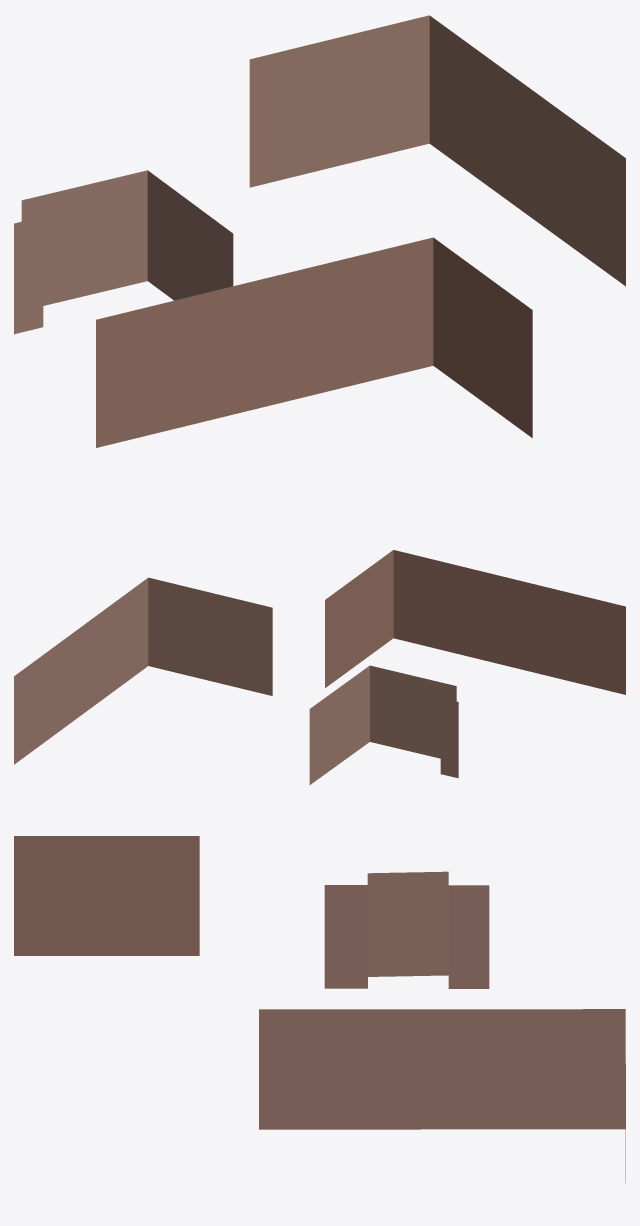
Rendered from c_1627_17836_buildings_residential.glb.
3 renders of one model, top to bottom at view 1: azimuth 30°, elevation 25°; view 2: azimuth 150°, elevation 25°; view 3: azimuth 270°, elevation 25°, orthographic. The views are drawn at different scales.
Parts seen in each view (by area): view 1: geometry_0; view 2: geometry_0; view 3: geometry_0.
Part boxes in pixels (x1,y1,x2,y2): geometry_0: (14, 15, 625, 447); geometry_0: (14, 550, 625, 784); geometry_0: (14, 836, 625, 1182).
Size of the model in its own units: 50.39 by 11.16 by 50.77.
